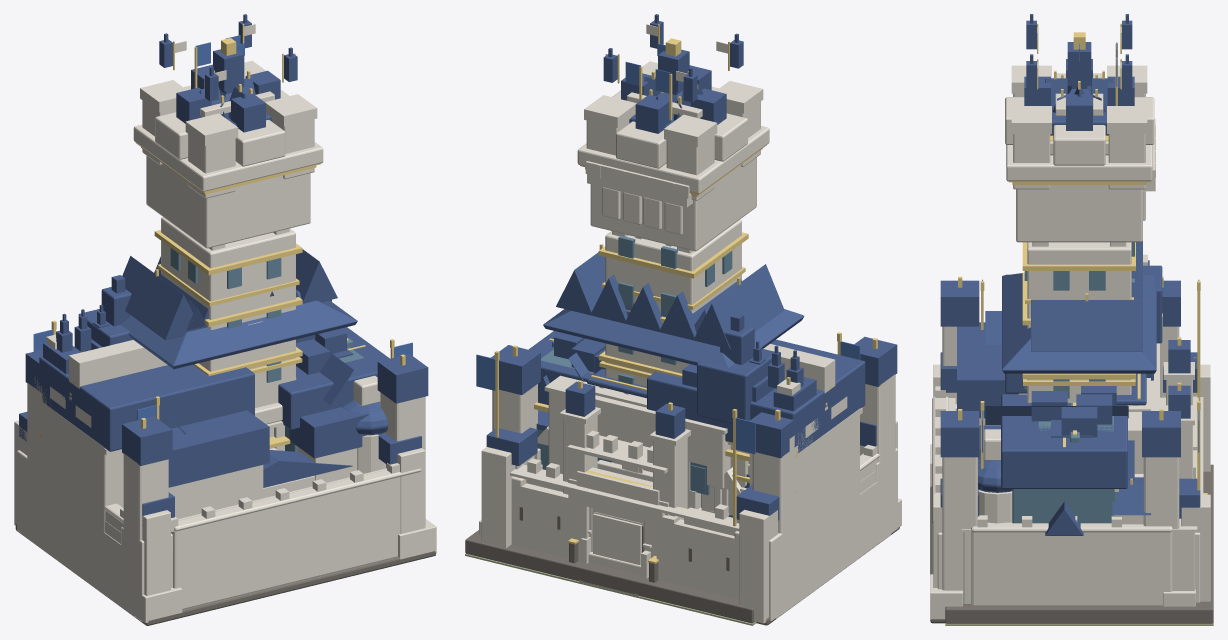
File: royal_lightkeep_watchtower_barracks_01.glb
The picture shows the model from 3 angles, left to right: view 1: azimuth 30°, elevation 25°; view 2: azimuth 150°, elevation 25°; view 3: azimuth 270°, elevation 25°; orthographic projection. The views are drawn at different scales.
Visible parts, largest first — view 1: WALL65_REAR, BARRACKS_LEFT_ROOF, TOWER_SHAFT, TOWER_OBSERVATION_BLOCK, BARRACKS_LEFT_MAIN, ROOF_HIP_MESH_MAIN, COURTYARD_REAR_ARM_L_ROOF, RIGHT_WING_ROOF, TURRET_BODY_2, HALL_MAIN_GABLE_0, TOWER_HIP_BASE, OUTER_WALL_LEFT (+45 smaller); view 2: BARRACKS_LEFT_MAIN, TOWER_SHAFT, BARRACKS_LEFT_ROOF, LOWER_PLINTH, TOWER_OBSERVATION_BLOCK, HALL_FRONT_MASS, ROOF_HIP_MESH_MAIN, OUTER_WALL_LEFT, TURRET_BODY_0, HALL_MAIN_GABLE_0, BARRACKS_GABLE_ROOF, CURTAIN_CORNER_0 (+55 smaller); view 3: WALL65_RIGHT, RIGHT_WING_ROOF, TOWER_OBSERVATION_BLOCK, ROOF_HIP_MESH_MAIN, HALL_MAIN_GABLE_4, LOWER_PLINTH, TOWER_SHAFT, TURRET_BODY_3, COURTYARD_REAR_ARM_L_ROOF, TOWER_HIP_BASE, TURRET_BODY_1, RIGHT_WING_MAIN (+52 smaller).
Boxes of the visible parts, x1,y1,x2,y2 form: WALL65_REAR: (171,477,400,608); BARRACKS_LEFT_ROOF: (39,351,254,451); TOWER_SHAFT: (161,217,295,407); TOWER_OBSERVATION_BLOCK: (146,155,310,248); BARRACKS_LEFT_MAIN: (44,404,123,559); ROOF_HIP_MESH_MAIN: (121,289,357,368); COURTYARD_REAR_ARM_L_ROOF: (168,410,269,487); RIGHT_WING_ROOF: (278,327,389,429); TURRET_BODY_2: (123,453,168,608); HALL_MAIN_GABLE_0: (122,256,200,339); TOWER_HIP_BASE: (133,124,323,191); OUTER_WALL_LEFT: (20,524,134,616); BARRACKS_LEFT_MAIN: (730,408,859,566); TOWER_SHAFT: (605,219,741,386); BARRACKS_LEFT_ROOF: (647,339,865,452); LOWER_PLINTH: (465,530,754,623); TOWER_OBSERVATION_BLOCK: (590,157,756,251); HALL_FRONT_MASS: (548,392,730,513); ROOF_HIP_MESH_MAIN: (543,309,804,367); OUTER_WALL_LEFT: (775,479,891,618); TURRET_BODY_0: (752,445,797,607); HALL_MAIN_GABLE_0: (694,264,784,349); BARRACKS_GABLE_ROOF: (697,348,773,423); CURTAIN_CORNER_0: (739,509,778,623); WALL65_RIGHT: (971,531,1172,605); RIGHT_WING_ROOF: (1001,394,1127,488); TOWER_OBSERVATION_BLOCK: (1016,185,1142,242); ROOF_HIP_MESH_MAIN: (1002,273,1156,373); HALL_MAIN_GABLE_4: (1031,299,1142,351); LOWER_PLINTH: (945,464,1213,623); TOWER_SHAFT: (1027,242,1131,402); TURRET_BODY_3: (942,457,977,603); COURTYARD_REAR_ARM_L_ROOF: (957,322,1017,418); TOWER_HIP_BASE: (1006,145,1152,181); TURRET_BODY_1: (1143,457,1179,528); RIGHT_WING_MAIN: (1012,489,1116,523).
Bounding box in the file's own units: 24 × 38.4 × 19.
